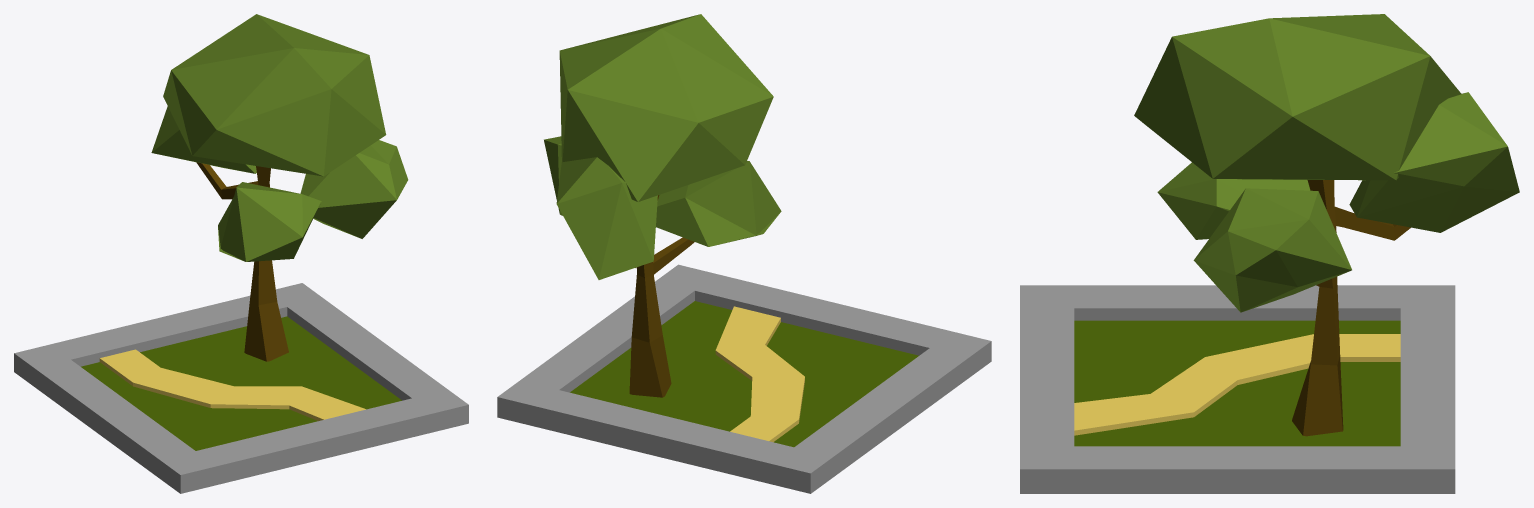
The picture shows the model from 3 angles, left to right: view 1: azimuth 30°, elevation 25°; view 2: azimuth 150°, elevation 25°; view 3: azimuth 270°, elevation 25°; orthographic projection. The views are drawn at different scales.
Visible parts, largest first — view 1: Plane.002; view 2: Plane.002; view 3: Plane.002.
Boxes of the visible parts, x1,y1,x2,y2 form: Plane.002: (14, 14, 468, 493); Plane.002: (497, 14, 991, 493); Plane.002: (1020, 14, 1519, 493).
Bounding box in the file's own units: 4.36 × 4.31 × 4.6.
